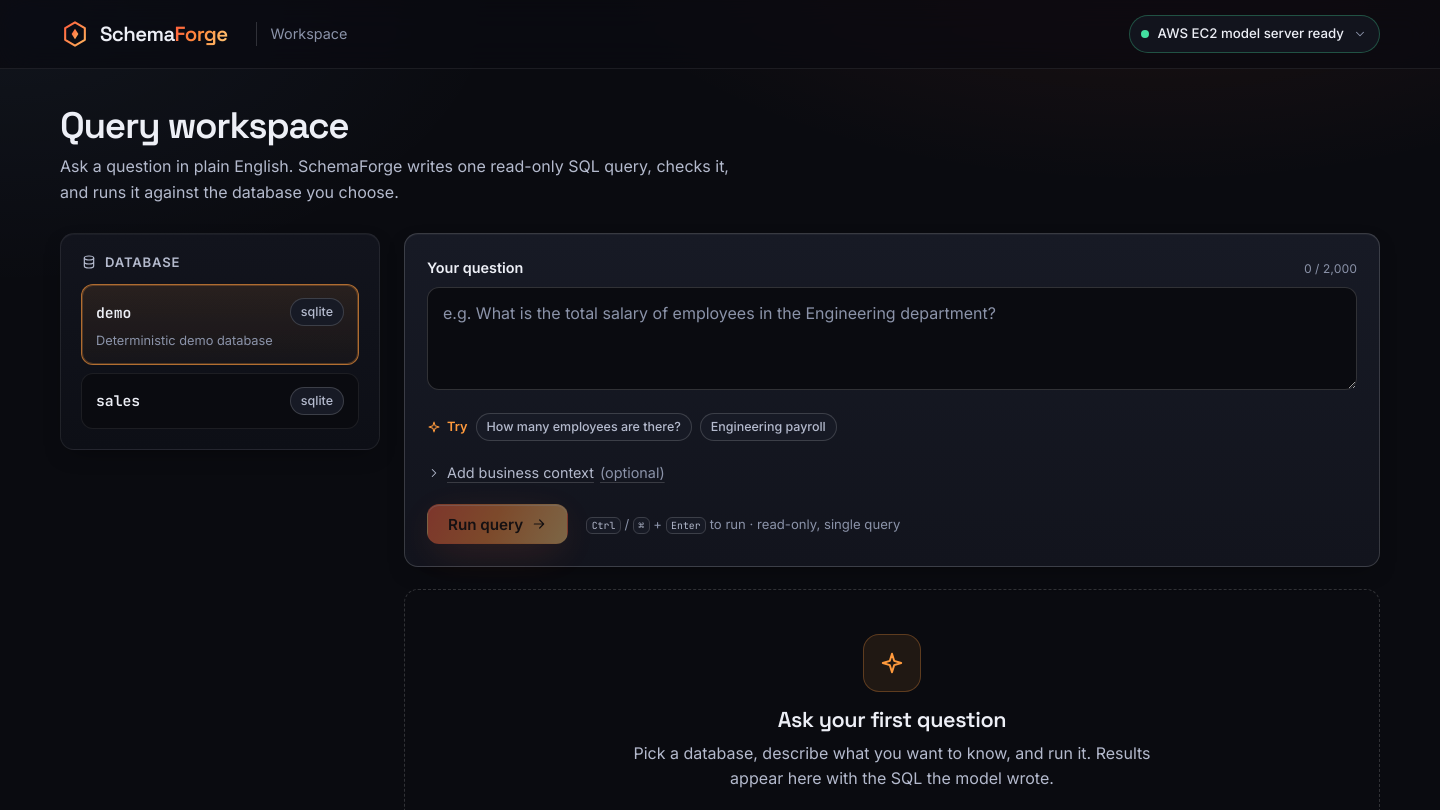
Test case: Workspace: running a query › fills the question (and context) from a demo example
Expected: the radio button labelled "demo sqlite Deterministic demo database" is shown, [81,284,359,365]
Click the button "Engineering payroll": (768, 427) [700,413,837,441]
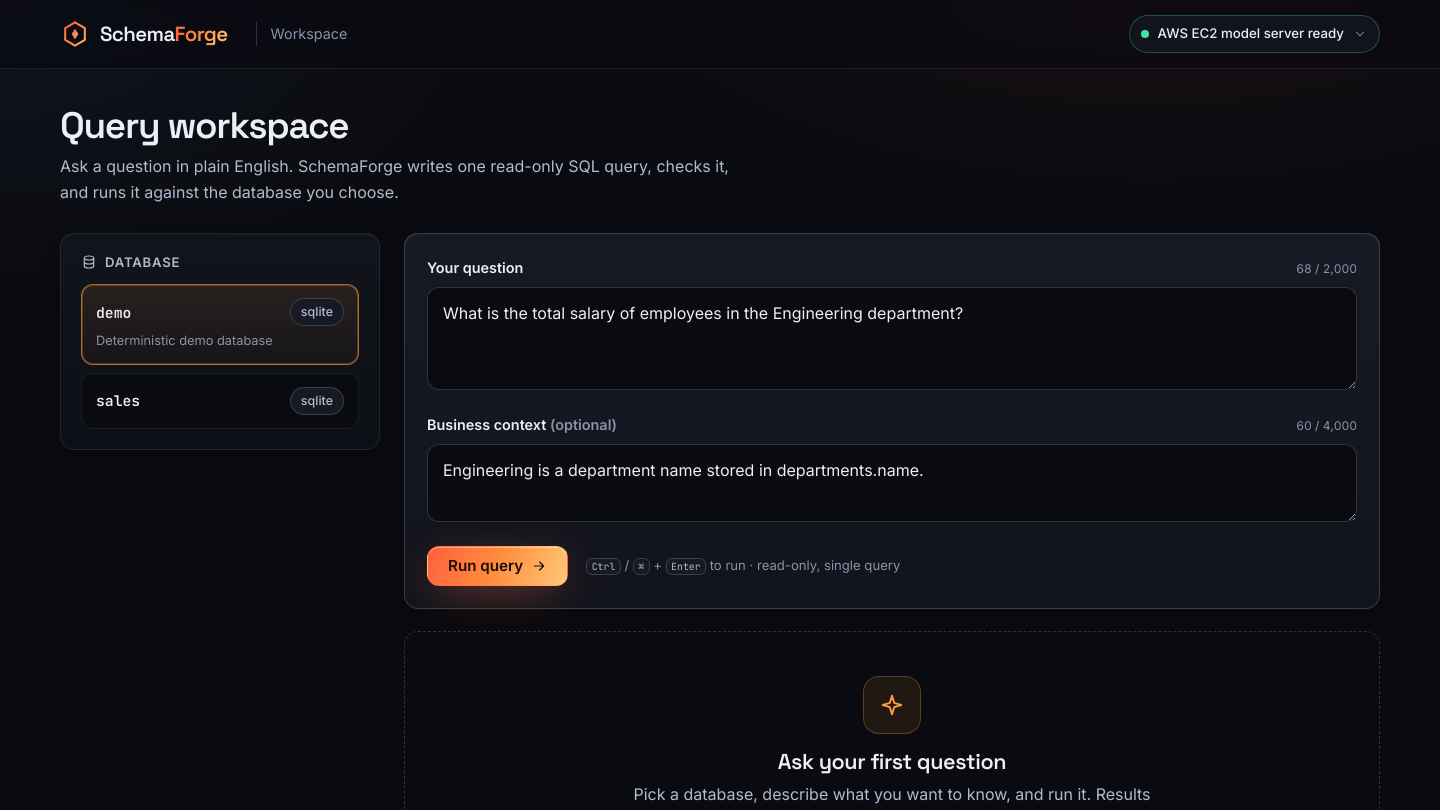
Expected: the text box labelled "Your question" holds "What is the total salary of employees in the Engineering department?", [427,287,1357,390]
Expected: the text box labelled "Business context (optional)" holds "Engineering is a department name stored in departments.name.", [427,444,1357,522]
